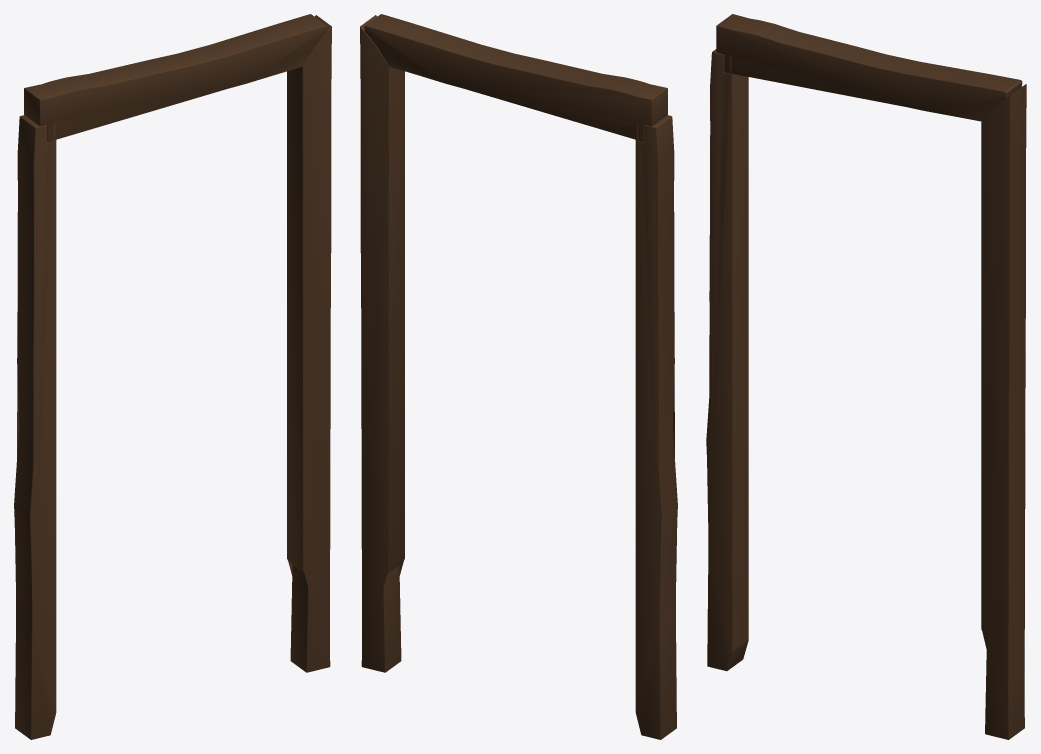
File: Door_Frame.obj
The picture shows the model from 3 angles, left to right: view 1: azimuth 30°, elevation 25°; view 2: azimuth 150°, elevation 25°; view 3: azimuth 330°, elevation 25°; orthographic projection.
Size of the model in its own units: 1.07 by 2.18 by 0.1.
